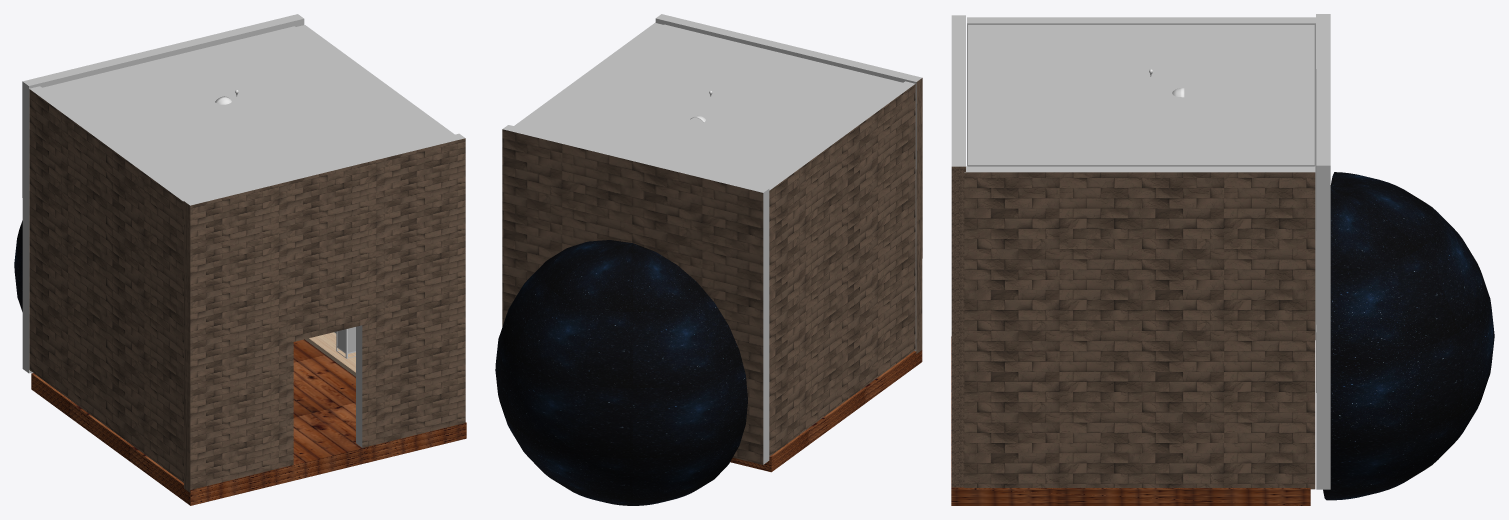
The model's file is Lab and Room_No light version.fbx.
The picture shows the model from 3 angles, left to right: view 1: azimuth 30°, elevation 25°; view 2: azimuth 150°, elevation 25°; view 3: azimuth 270°, elevation 25°; orthographic projection. The views are drawn at different scales.
Parts seen in each view (by area): view 1: prawa_sciana_Cube.004, lewa_sciana_Cube.002, prawa_sciana_Cube.002, pdloga_Cube.005, prawa_sciana_Cube.003, prawa_sciana_Cube.001, Cube.003_Cube.009, Sphere; view 2: Sphere, lewa_sciana_Cube.002, prawa_sciana_Cube.003, prawa_sciana_Cube.002, prawa_sciana_Cube.004, pdloga_Cube.005, prawa_sciana_Cube.001; view 3: prawa_sciana_Cube.001, prawa_sciana_Cube.002, Sphere, prawa_sciana_Cube.003, prawa_sciana_Cube.004, pdloga_Cube.005, lewa_sciana_Cube.002.
Part boxes in pixels (x1=…): prawa_sciana_Cube.004: x1=183, y1=133, x2=465, y2=492; lewa_sciana_Cube.002: x1=29, y1=86, x2=192, y2=482; prawa_sciana_Cube.002: x1=42, y1=26, x2=445, y2=198; pdloga_Cube.005: x1=31, y1=339, x2=466, y2=505; prawa_sciana_Cube.003: x1=22, y1=14, x2=304, y2=373; prawa_sciana_Cube.001: x1=296, y1=25, x2=454, y2=333; Cube.003_Cube.009: x1=305, y1=332, x2=355, y2=376; Sphere: x1=14, y1=220, x2=22, y2=311; Sphere: x1=495, y1=240, x2=747, y2=505; lewa_sciana_Cube.002: x1=762, y1=81, x2=915, y2=456; prawa_sciana_Cube.003: x1=502, y1=125, x2=769, y2=464; prawa_sciana_Cube.002: x1=523, y1=24, x2=902, y2=186; prawa_sciana_Cube.004: x1=655, y1=14, x2=922, y2=353; pdloga_Cube.005: x1=730, y1=350, x2=922, y2=472; prawa_sciana_Cube.001: x1=514, y1=22, x2=662, y2=128; prawa_sciana_Cube.001: x1=964, y1=166, x2=1315, y2=489; prawa_sciana_Cube.002: x1=968, y1=25, x2=1314, y2=166; Sphere: x1=1323, y1=172, x2=1494, y2=500; prawa_sciana_Cube.003: x1=1316, y1=14, x2=1330, y2=489; prawa_sciana_Cube.004: x1=951, y1=15, x2=965, y2=487; pdloga_Cube.005: x1=951, y1=336, x2=1310, y2=505; lewa_sciana_Cube.002: x1=967, y1=17, x2=1315, y2=340.
Size of the model in its own units: 55.12 by 70.01 by 83.24.
